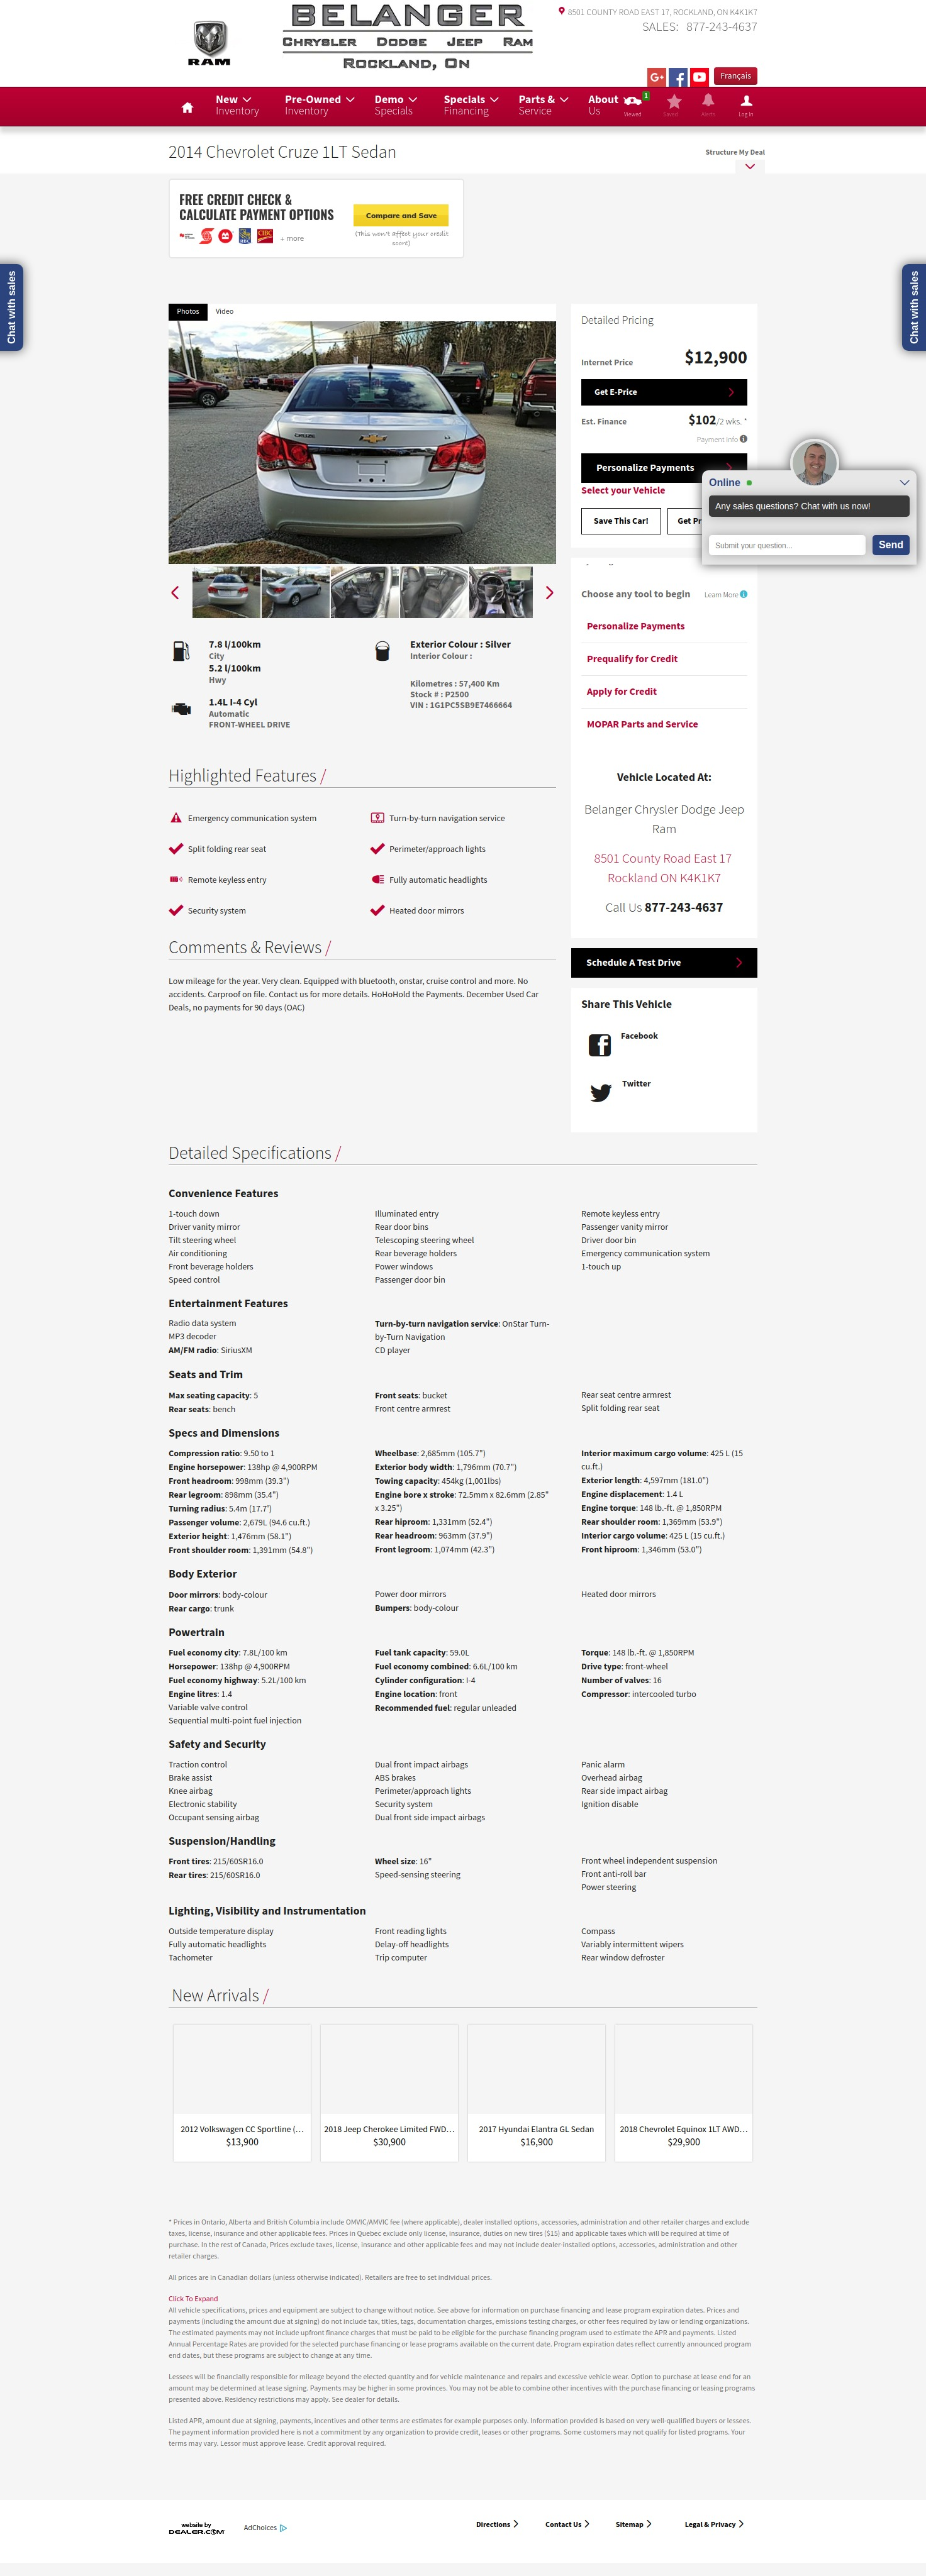car: (546, 585, 554, 600)
